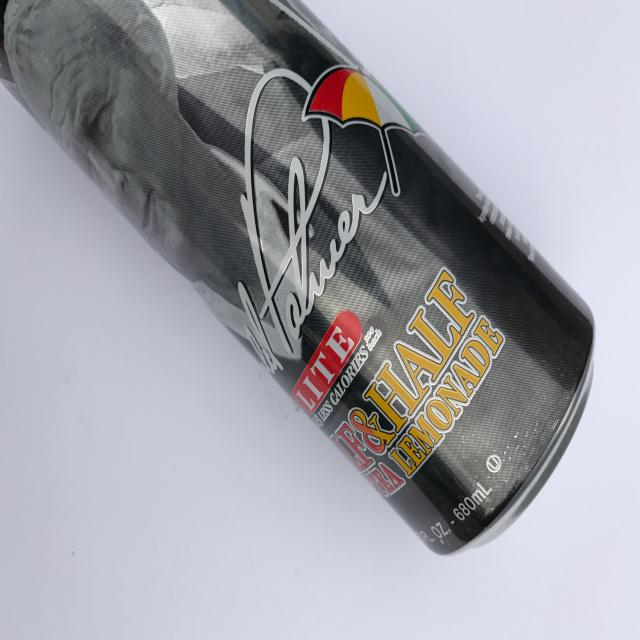metal: (0, 0, 596, 557)
